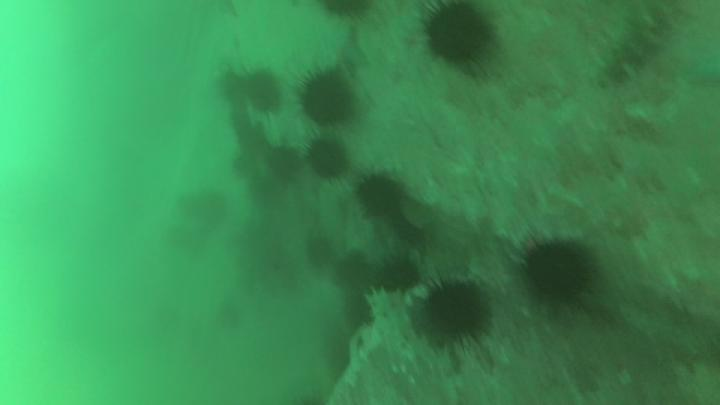echinus: (528, 242, 591, 302), (429, 5, 486, 60), (429, 284, 485, 337), (301, 73, 354, 125), (358, 173, 402, 219), (245, 74, 284, 115), (310, 142, 347, 178), (337, 252, 371, 289), (381, 258, 415, 288), (271, 144, 299, 180)
